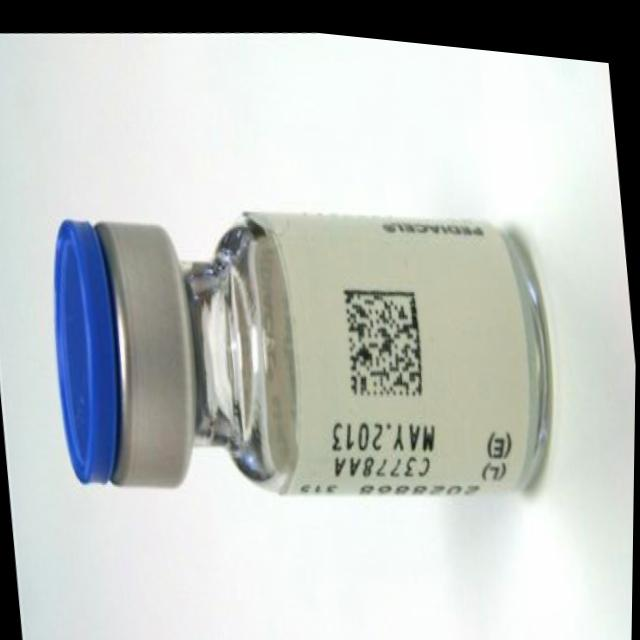datamatrix: (338, 268, 434, 400)
